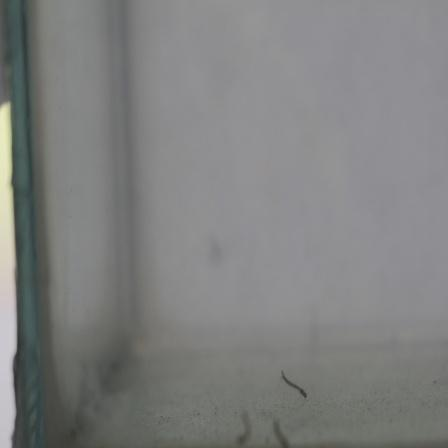Jentik-Nyamuk: (280, 367, 311, 401)
